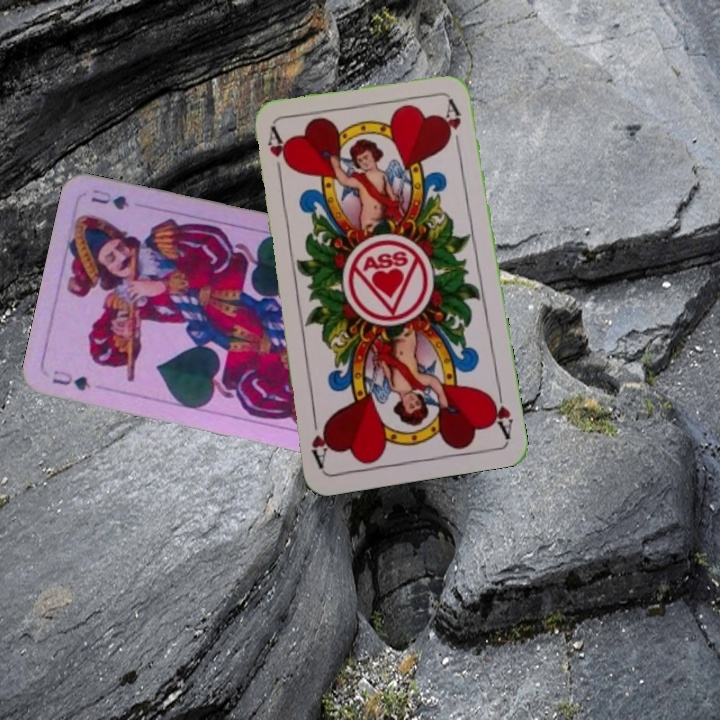GU: (48, 366, 94, 393)
HA: (484, 382, 516, 441), (263, 124, 285, 184)
